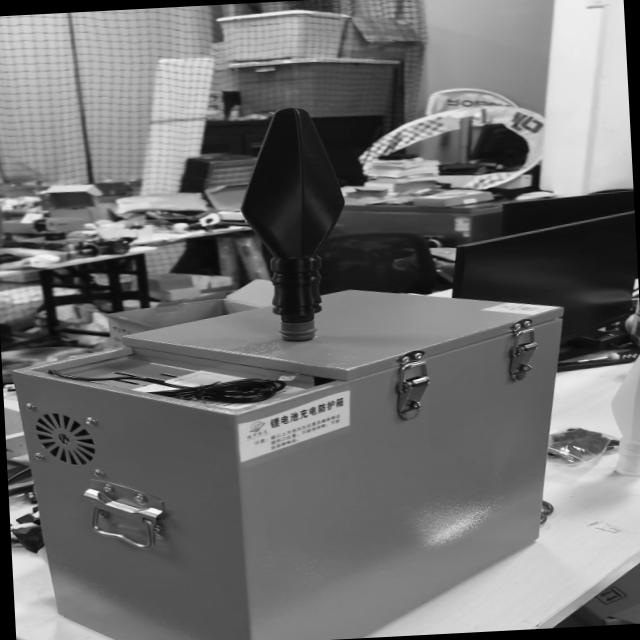base: (278, 320, 318, 344)
